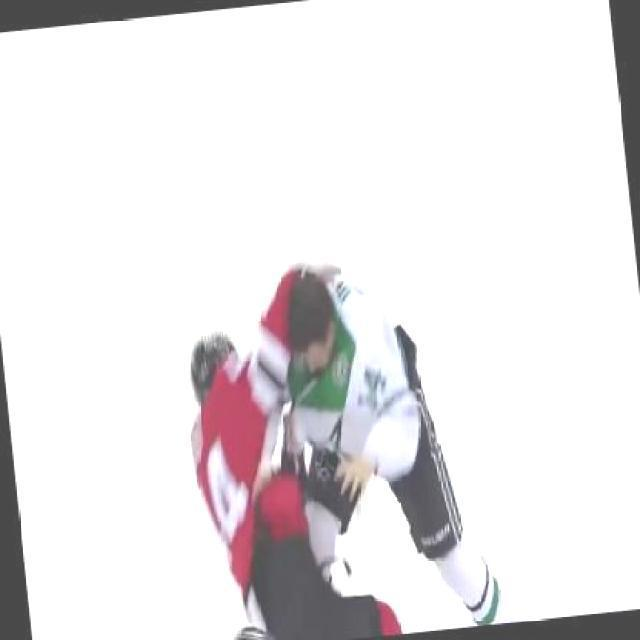fight: (165, 243, 478, 639)
